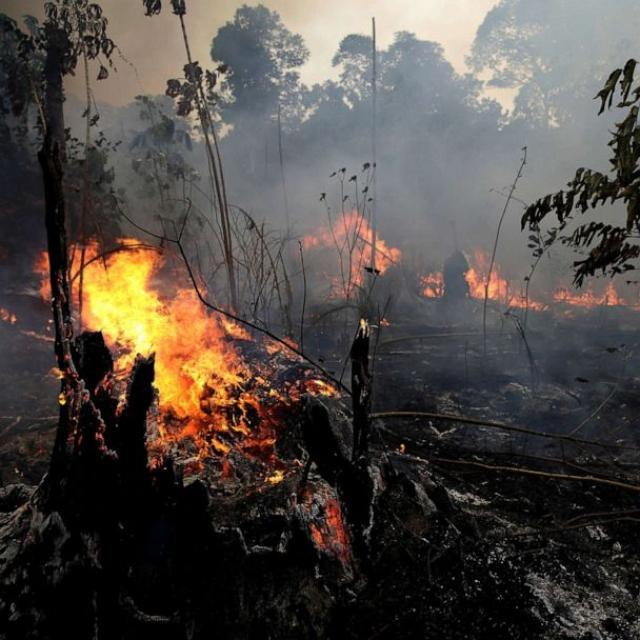Fire: (31, 225, 342, 475), (338, 209, 626, 311)
Smoke: (270, 0, 629, 203), (386, 313, 640, 452), (67, 66, 270, 221)
